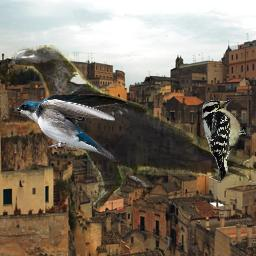Crow: (8, 45, 256, 212)
Swallow: (14, 92, 128, 162)
Woodpecker: (201, 98, 253, 183)
